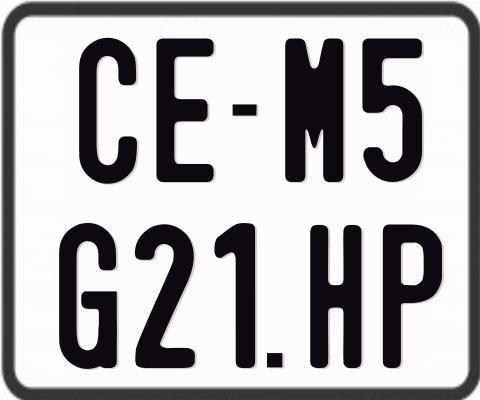1: (213, 222, 257, 370)
2: (134, 221, 199, 368)
5: (359, 36, 423, 185)
C: (77, 37, 137, 188)
E: (155, 38, 219, 184)
G: (58, 221, 118, 373)
H: (310, 223, 364, 371)
M: (284, 39, 347, 188)
P: (383, 223, 443, 366)
